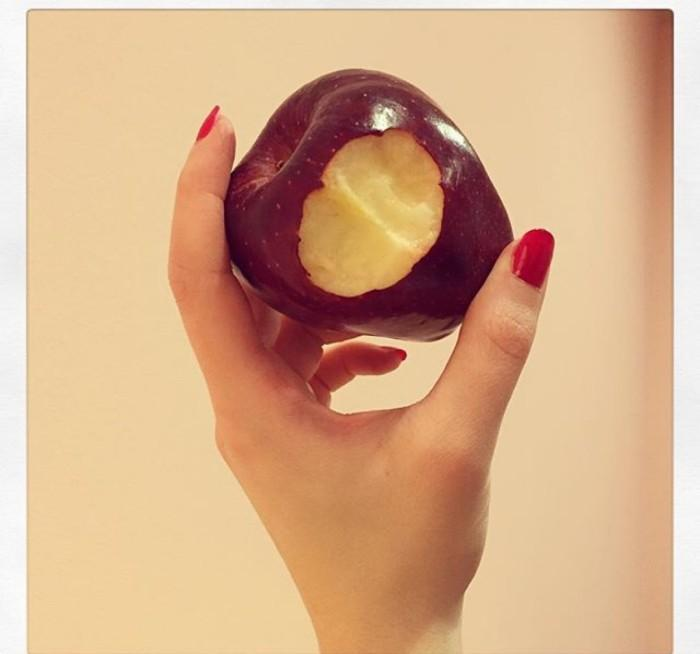apple: (222, 69, 515, 340)
